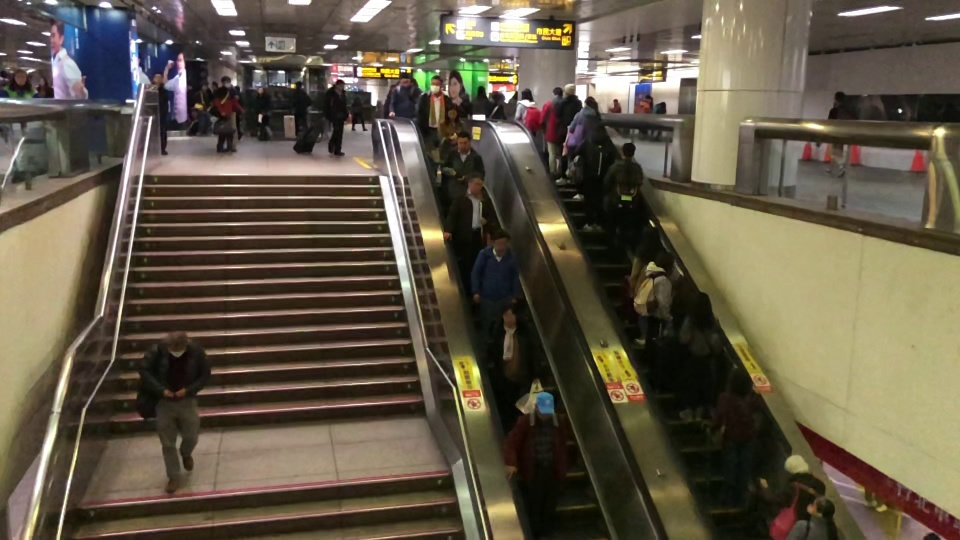person_head: (726, 366, 753, 393), (805, 495, 836, 517), (166, 329, 187, 356), (690, 291, 712, 315), (502, 297, 520, 326), (490, 228, 511, 252), (784, 454, 808, 475), (640, 225, 661, 247), (536, 394, 552, 420), (655, 251, 674, 272), (456, 130, 471, 154), (468, 172, 483, 193), (620, 141, 636, 159), (445, 103, 459, 121), (14, 68, 28, 84), (430, 75, 443, 91), (834, 90, 845, 106), (399, 72, 411, 86), (564, 82, 576, 95), (591, 120, 604, 132), (220, 76, 232, 88), (335, 78, 345, 91), (492, 92, 505, 102), (521, 88, 532, 99), (583, 96, 595, 106), (552, 86, 562, 97), (153, 72, 162, 83), (40, 75, 47, 87), (295, 80, 303, 90), (477, 86, 485, 96), (460, 93, 468, 101), (201, 83, 207, 91), (257, 87, 265, 93), (645, 94, 651, 102), (512, 90, 517, 99), (613, 98, 618, 104), (661, 101, 665, 107)
person_vbox: (136, 328, 213, 494), (503, 394, 568, 535), (708, 365, 762, 506), (470, 228, 521, 356), (759, 453, 826, 540), (679, 290, 720, 426), (572, 121, 614, 231), (492, 296, 538, 395), (604, 142, 646, 250), (440, 130, 486, 227), (441, 172, 490, 258), (629, 225, 662, 346), (415, 75, 451, 178), (824, 90, 857, 179), (568, 96, 596, 199), (633, 251, 673, 323), (555, 83, 582, 185), (212, 76, 244, 154), (437, 103, 465, 192), (786, 495, 837, 539), (322, 78, 349, 157), (540, 85, 563, 177), (152, 73, 169, 156), (388, 72, 415, 118), (515, 88, 540, 136), (0, 69, 39, 98), (292, 80, 312, 131), (255, 87, 272, 140), (193, 84, 210, 136), (636, 94, 651, 135), (650, 101, 665, 141), (471, 85, 488, 113), (488, 92, 505, 120), (36, 75, 54, 98), (507, 90, 518, 118), (607, 97, 621, 113), (459, 93, 469, 115)
